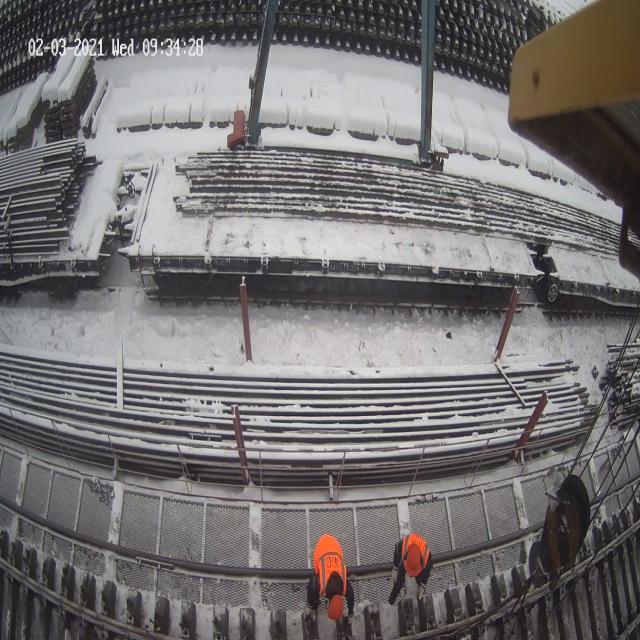Helmet: (324, 584, 351, 630), (402, 544, 430, 575)
Person: (305, 533, 354, 623), (388, 532, 432, 605)
